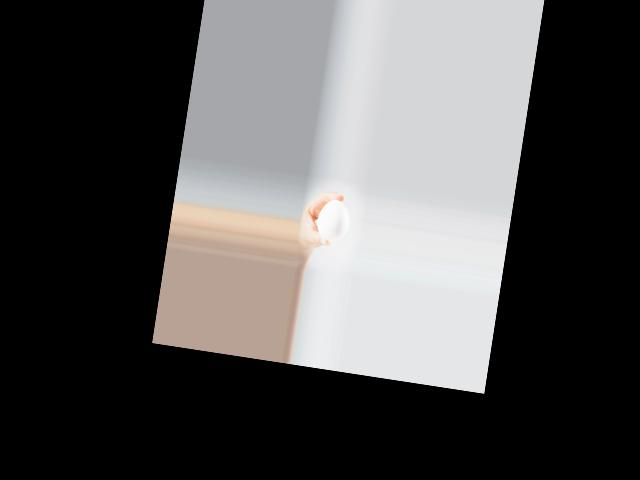egg: (314, 197, 351, 242)
